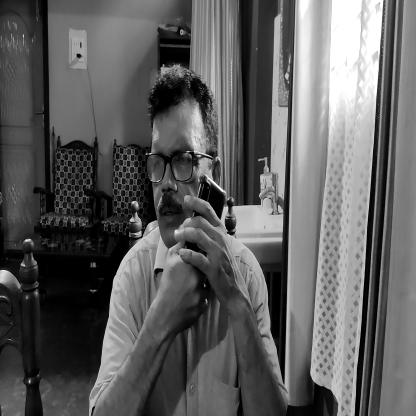Distracted: (148, 86, 198, 240)
